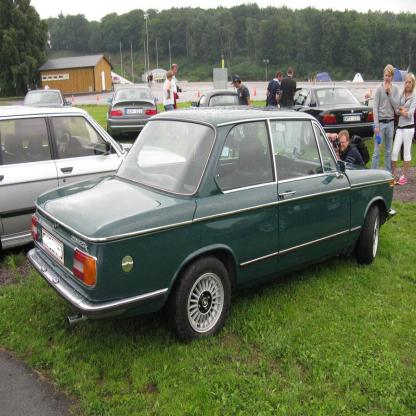Car: (23, 100, 401, 348), (0, 104, 188, 258), (290, 82, 376, 144), (11, 90, 70, 137), (107, 87, 155, 136), (191, 89, 239, 109)
